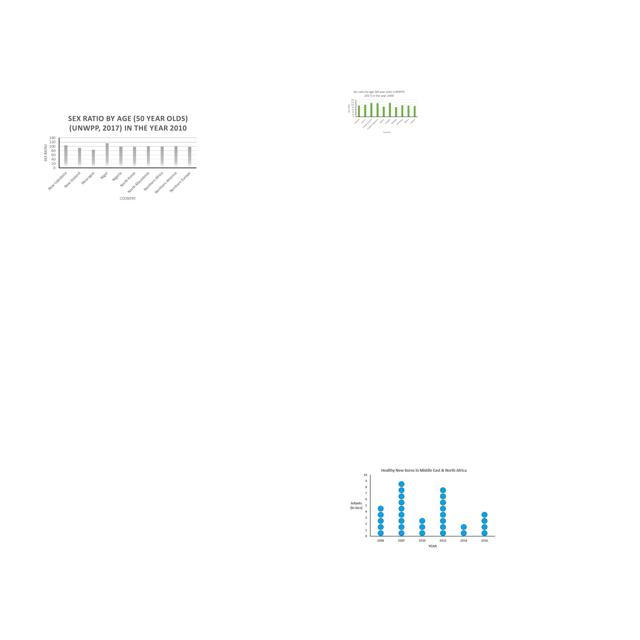Graph: (39, 112, 198, 203), (345, 463, 499, 553), (346, 89, 419, 135)
